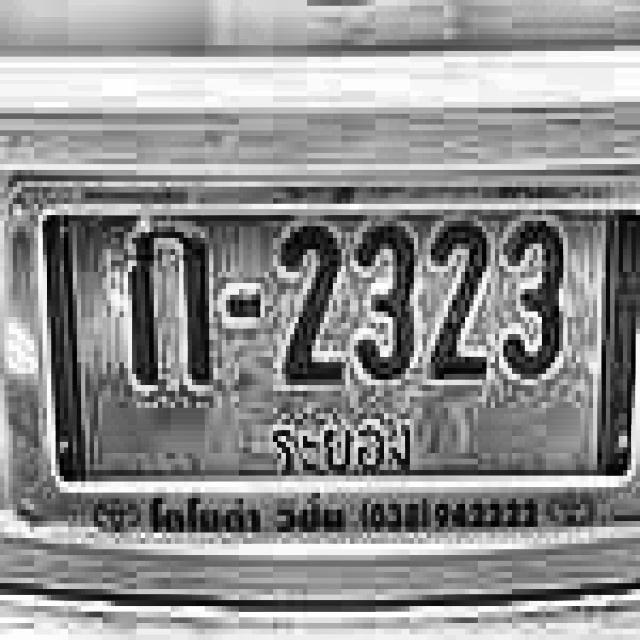license-plate: (0, 156, 640, 544)
